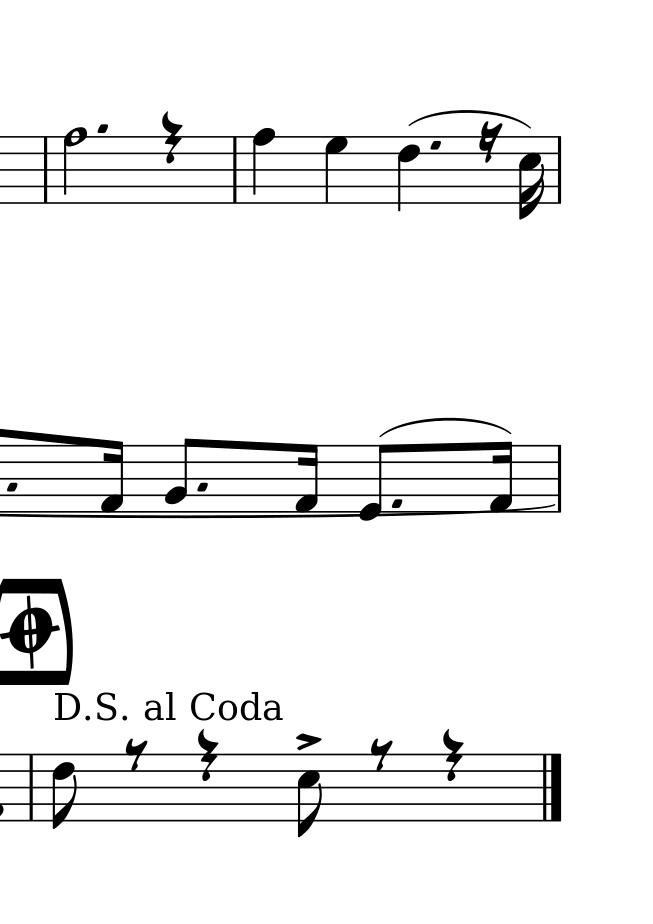16_1: (98, 439, 125, 515), (488, 440, 514, 515), (293, 443, 320, 515)
16_5: (517, 134, 544, 221)
2_8: (60, 126, 87, 207)
4_6: (396, 134, 421, 215)
4_7: (322, 135, 349, 205)
4_8: (250, 127, 276, 206)
8_0: (357, 442, 390, 522)
8_2: (162, 436, 196, 512)
8_5: (295, 751, 323, 840)
8_6: (50, 752, 78, 832)
Accent_above: (294, 732, 323, 750)
Coda: (4, 598, 59, 668)
DSalcoda: (51, 690, 286, 723)
Final_barline: (537, 753, 564, 820)
Rests4: (440, 728, 465, 785), (194, 728, 219, 783), (160, 110, 184, 167)
Rests8: (477, 119, 504, 166), (369, 737, 394, 772), (124, 737, 149, 771)
Single_barline: (23, 755, 39, 819), (552, 445, 567, 512), (552, 137, 566, 203)
Slur: (379, 419, 513, 436)
dot: (389, 494, 405, 510), (194, 480, 210, 495)
